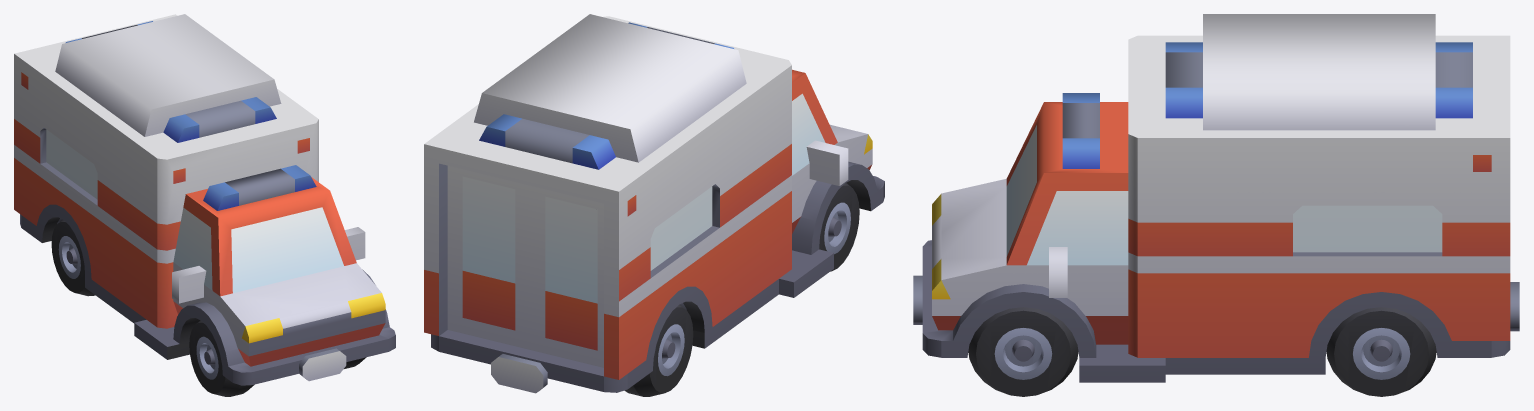
File: Driving_Sim_Model_Ambulance.fbx
3 views of the same model, side by side, from view 1: azimuth 30°, elevation 25°; view 2: azimuth 150°, elevation 25°; view 3: azimuth 270°, elevation 25° (orthographic). The views are drawn at different scales.
Parts seen in each view (by area): view 1: body, wheel-front-right, wheel-back-right; view 2: body, door-left, door-right, wheel-back-right, wheel-front-right; view 3: body, wheel-back-left, wheel-front-left.
Part boxes in pixels (<box>): body: <box>14,14,395,385</box>; wheel-front-right: <box>189,320,254,396</box>; wheel-back-right: <box>51,219,95,296</box>; body: <box>424,14,884,393</box>; door-left: <box>447,165,530,349</box>; door-right: <box>530,186,603,367</box>; wheel-back-right: <box>624,304,693,396</box>; wheel-front-right: <box>819,183,859,271</box>; body: <box>913,14,1519,382</box>; wheel-back-left: <box>1326,307,1436,396</box>; wheel-front-left: <box>968,307,1078,396</box>.
Bounding box in the file's own units: 2.01 × 2.42 × 4.37.
